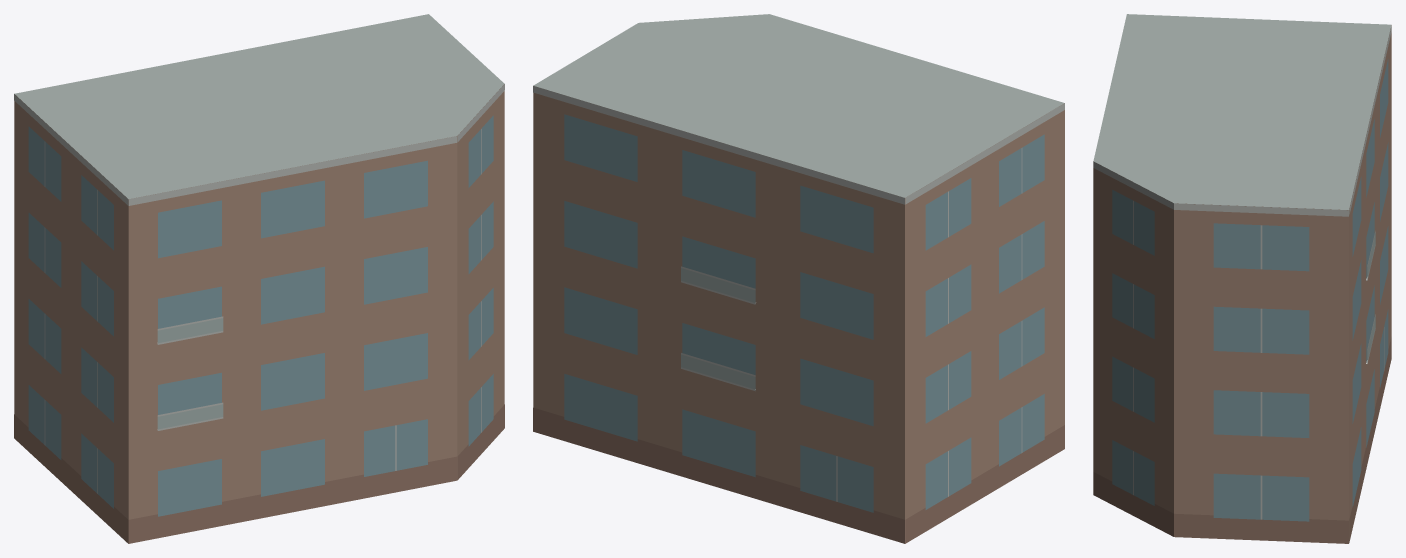
The model's file is survey-upis-32593686.glb.
3 views of the same model, side by side, from view 1: azimuth 30°, elevation 25°; view 2: azimuth 150°, elevation 25°; view 3: azimuth 270°, elevation 25° (orthographic). The views are drawn at different scales.
Visible parts, largest first — view 1: survey-upis-32593686.tmp; view 2: survey-upis-32593686.tmp; view 3: survey-upis-32593686.tmp.
Boxes of the visible parts, bbox=[...] form: survey-upis-32593686.tmp: bbox=[14, 14, 504, 543]; survey-upis-32593686.tmp: bbox=[533, 14, 1064, 543]; survey-upis-32593686.tmp: bbox=[1093, 14, 1391, 543].
Bounding box in the file's own units: 15.51 × 12.3 × 9.97.
